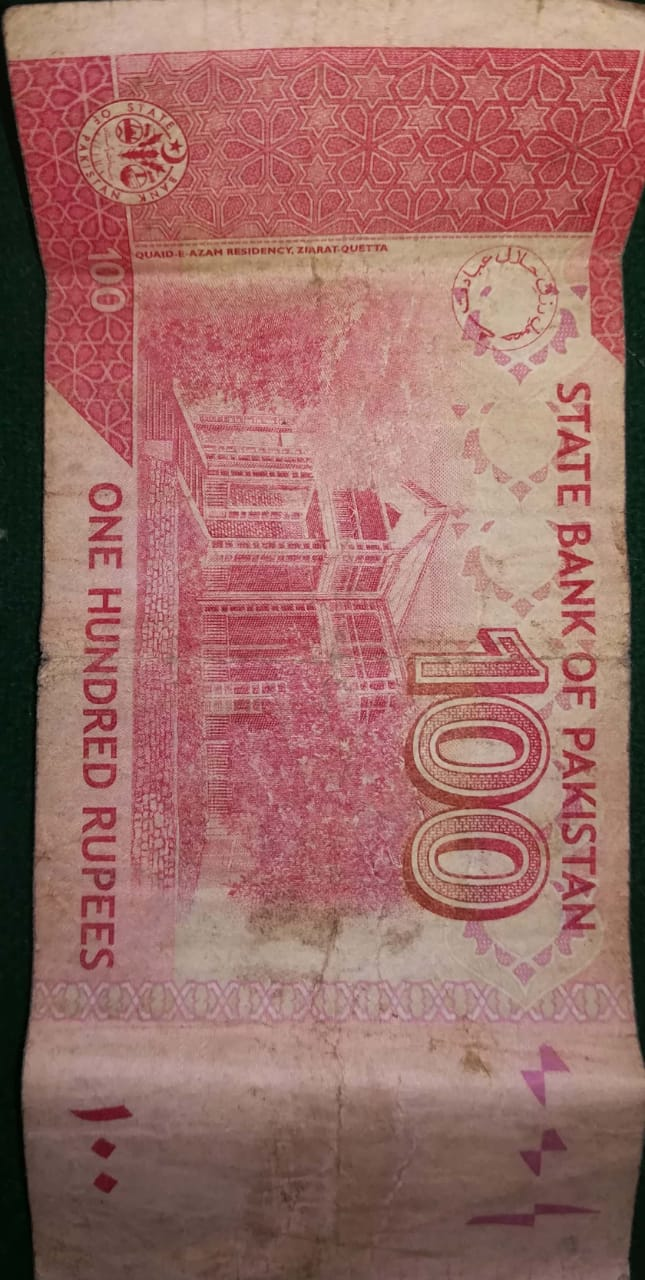100 rupee: (1, 16, 630, 1266)
